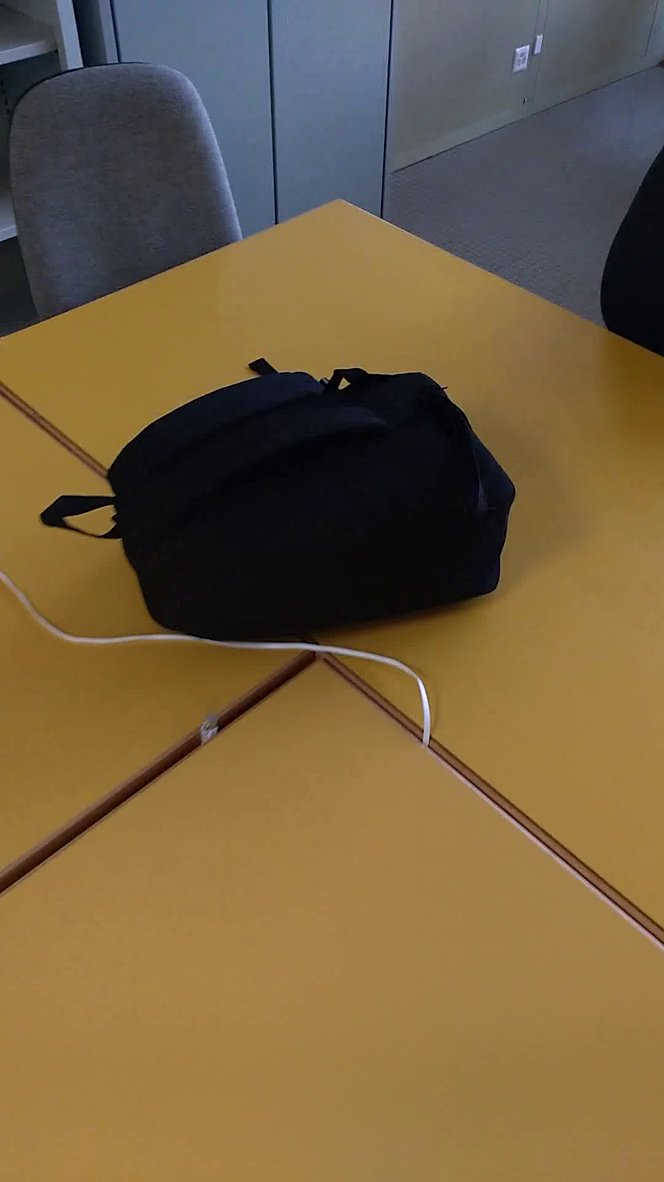bag: (27, 339, 525, 655)
chair: (2, 45, 268, 334)
